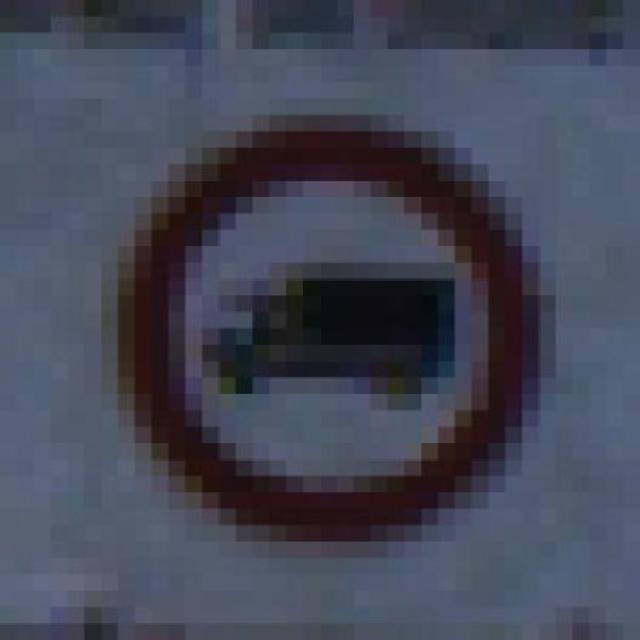Truck traffic is prohibited: (101, 99, 573, 542)
